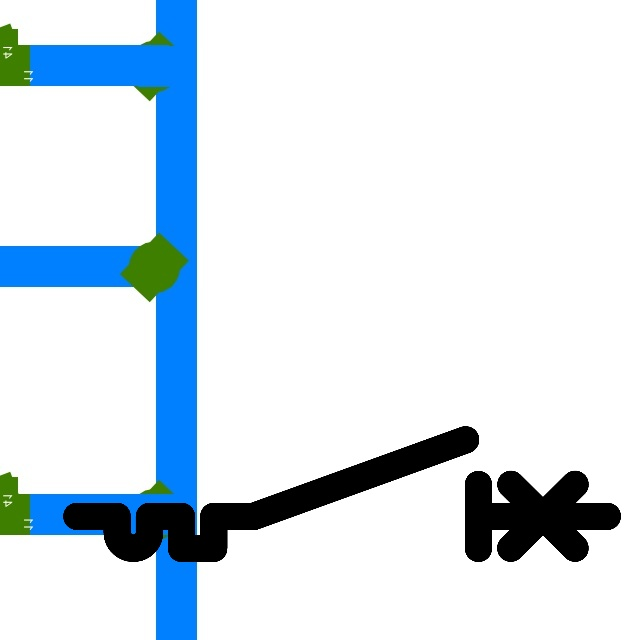interruptor_termomagnetico: (63, 426, 620, 562)
